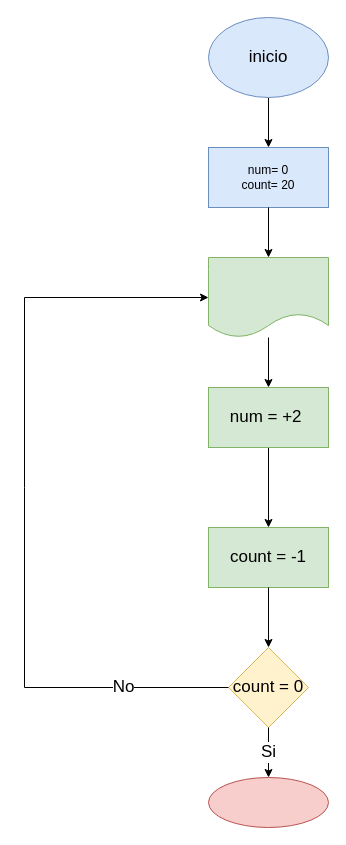
Image size: 346x845. Some labels were removed from this diagram. The centre of each missing label's shape, as x and y in pixels:
fin: the point at 268,802
num: the point at 268,297
